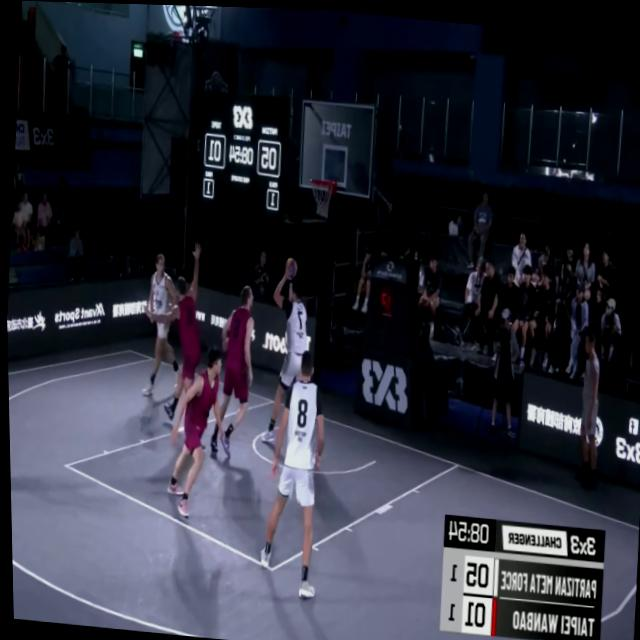ball: (280, 251, 297, 280)
hoop: (305, 170, 336, 223)
player: (249, 344, 331, 601), (160, 342, 230, 522), (255, 257, 313, 454), (150, 240, 208, 435), (210, 273, 262, 457), (134, 251, 186, 402)
